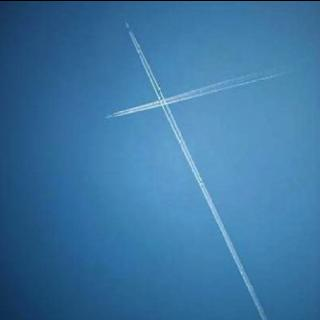Contrails: (14, 0, 309, 320)
